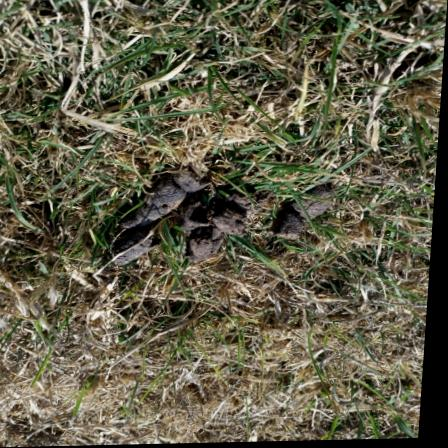dog-poop: (93, 175, 264, 272), (280, 186, 341, 250)
